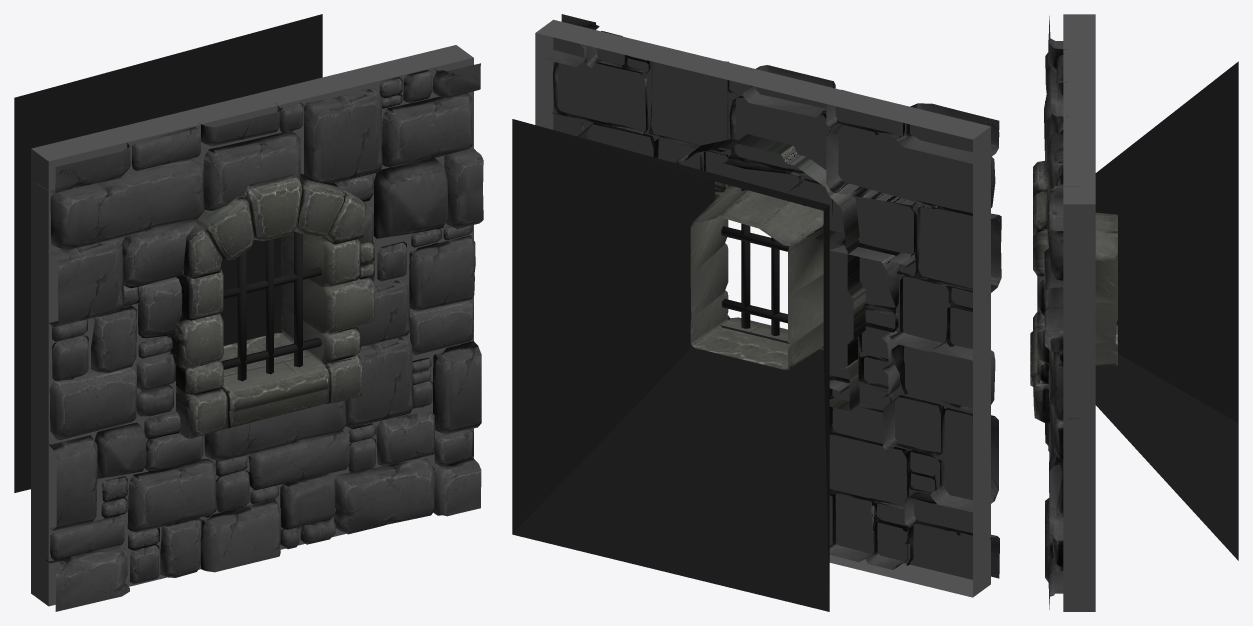
The model's file is Wall_04_BarredWindow.fbx.
The picture shows the model from 3 angles, left to right: view 1: azimuth 30°, elevation 25°; view 2: azimuth 150°, elevation 25°; view 3: azimuth 270°, elevation 25°; orthographic projection. The views are drawn at different scales.
Parts seen in each view (by area): view 1: Wall_04_BarredWindow; view 2: Wall_04_BarredWindow; view 3: Wall_04_BarredWindow.
Part boxes in pixels (x1,y1,x2,y2): Wall_04_BarredWindow: [14, 14, 483, 611]; Wall_04_BarredWindow: [512, 14, 1001, 611]; Wall_04_BarredWindow: [1030, 14, 1238, 611].
Size of the model in its own units: 302 by 300 by 139.
